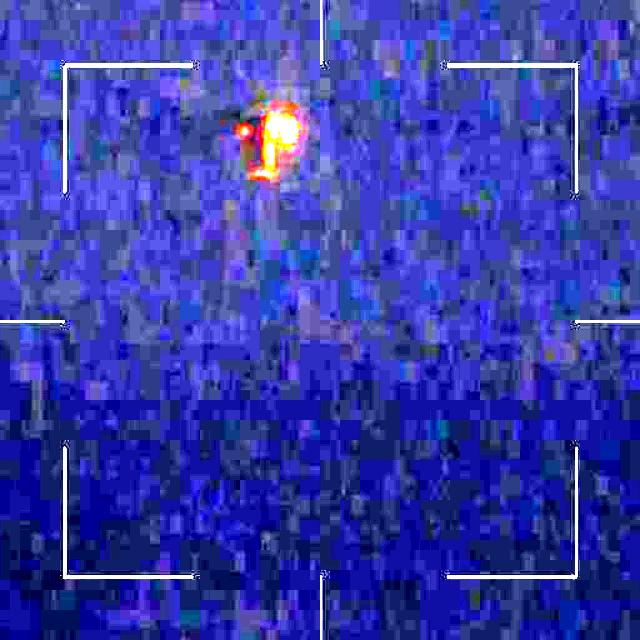bird: (212, 105, 296, 179)
